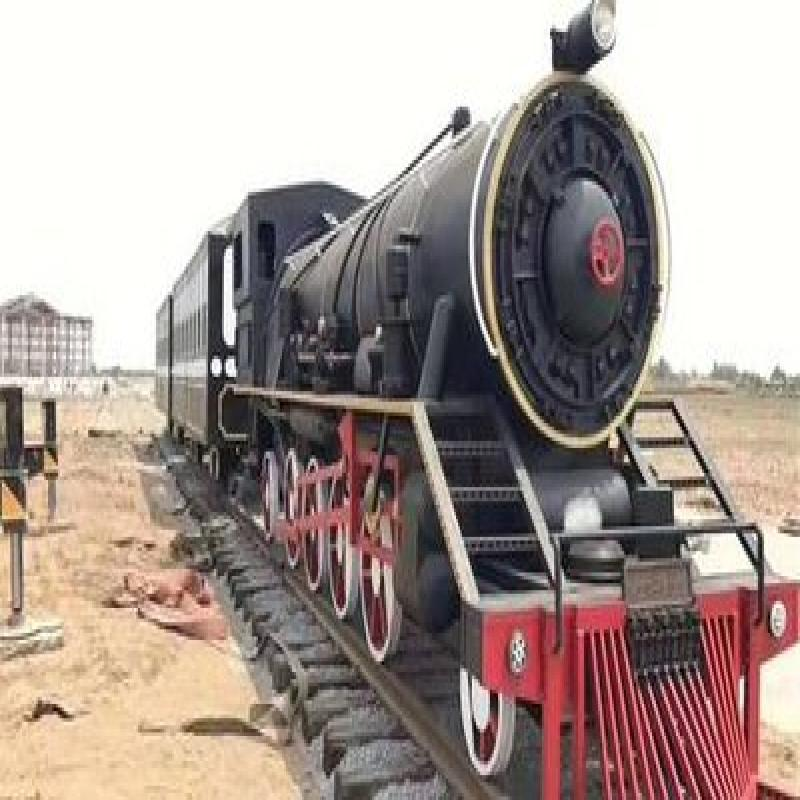train: (143, 4, 795, 794)
